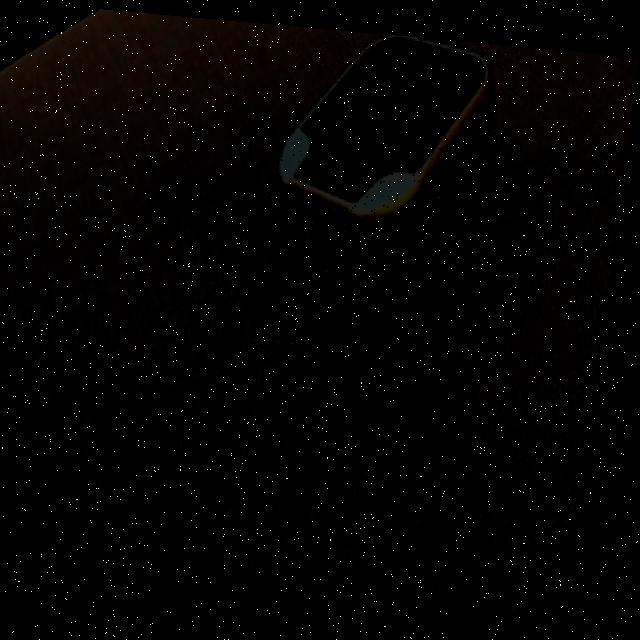adapter: (258, 21, 523, 374)
